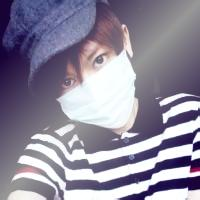face_mask: (44, 15, 135, 126)
